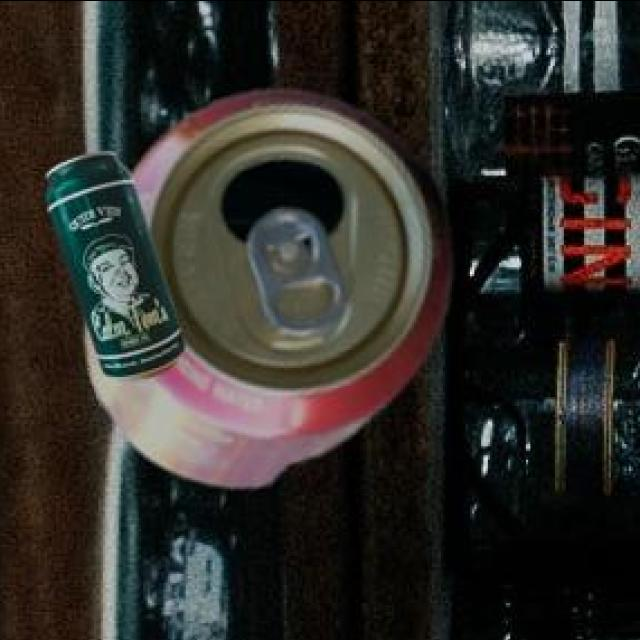logam: (88, 86, 455, 480), (50, 149, 187, 377)
